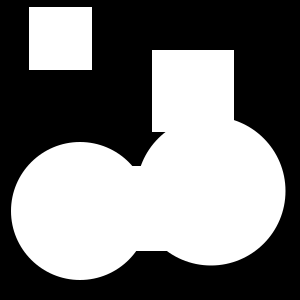circle: (83, 166, 168, 251), (152, 50, 234, 132), (29, 7, 92, 70)
rectangle: (137, 117, 286, 266), (11, 142, 149, 280)
